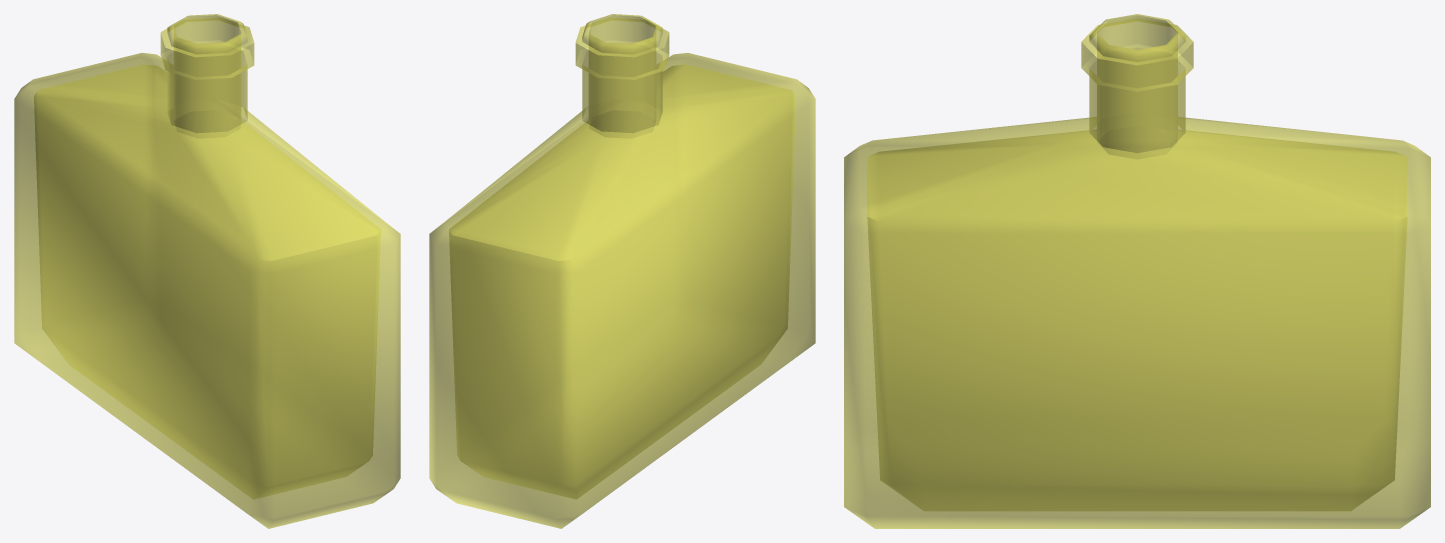
Rendered from PROP_013_Bottles_H.fbx.
The picture shows the model from 3 angles, left to right: view 1: azimuth 30°, elevation 25°; view 2: azimuth 150°, elevation 25°; view 3: azimuth 270°, elevation 25°; orthographic projection. The views are drawn at different scales.
Visible parts, largest first — view 1: Cuadrado; view 2: Cuadrado; view 3: Cuadrado.
Part boxes in pixels (x1=…): Cuadrado: x1=14, y1=14, x2=400, y2=528; Cuadrado: x1=429, y1=14, x2=815, y2=528; Cuadrado: x1=844, y1=14, x2=1430, y2=528.
Bounding box in the file's own units: 0.1081 × 0.2754 × 0.3138.
